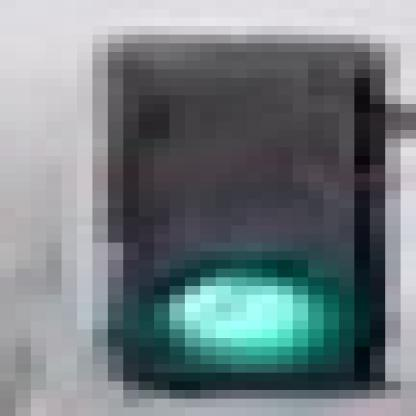Green Light: (100, 32, 379, 391)
